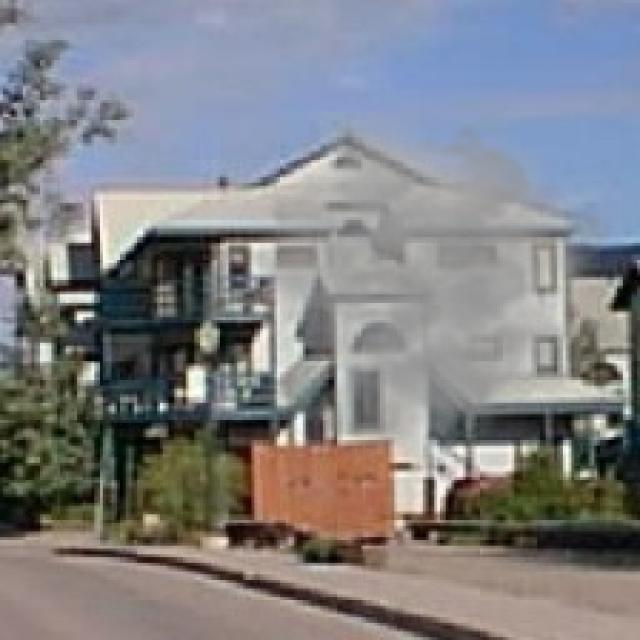smoke: (240, 112, 617, 477)
